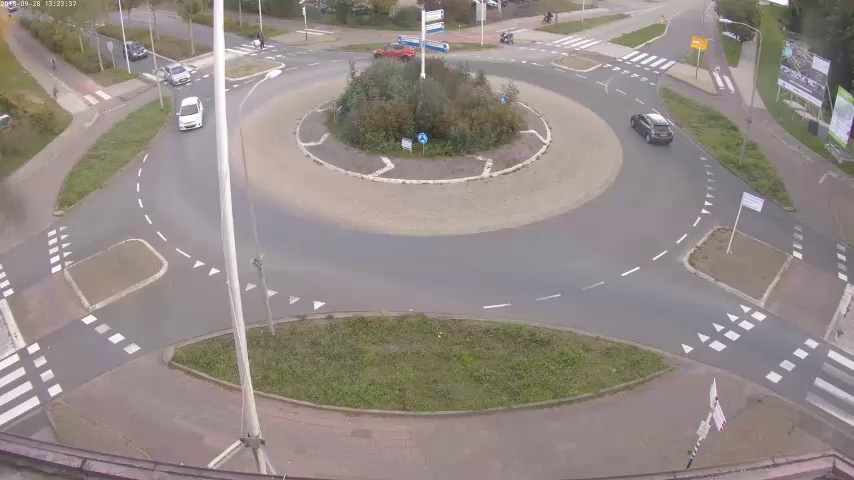car: (632, 112, 671, 145), (177, 92, 202, 131), (374, 42, 411, 64), (157, 62, 189, 84), (124, 39, 144, 60)
